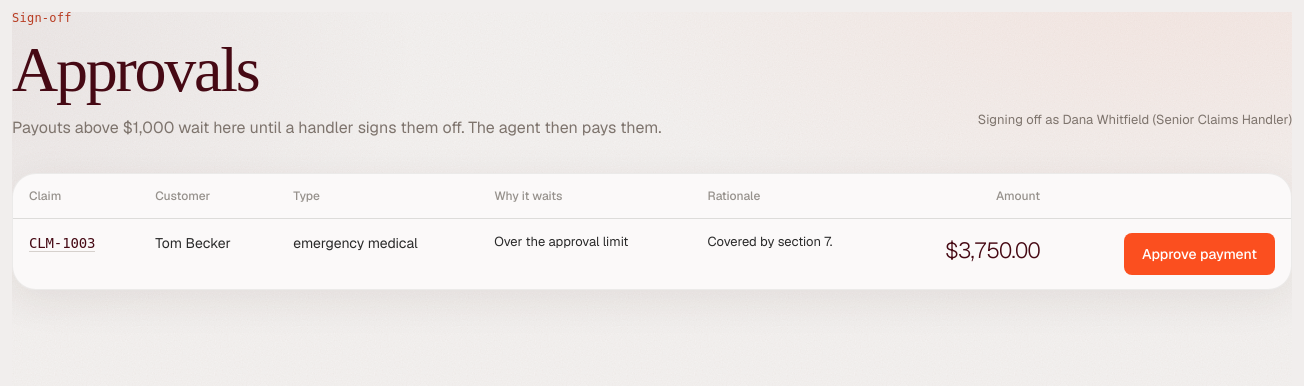
Test: Approvals › shows a clear error when the API returns 403
The width and height of the screenshot is (1304, 386).
Click the button "Approve payment" at (1200, 254), box [1124,233,1275,275]
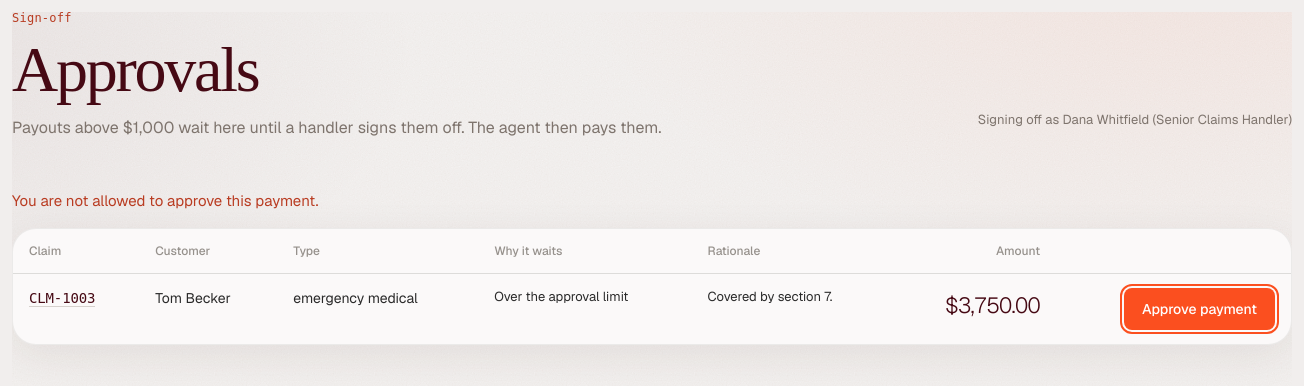
Expected: the link "CLM-1003" is shown, [29,290,95,307]
Expected: the text "You are not allowed to approve this payment." is shown, [12,189,318,212]
